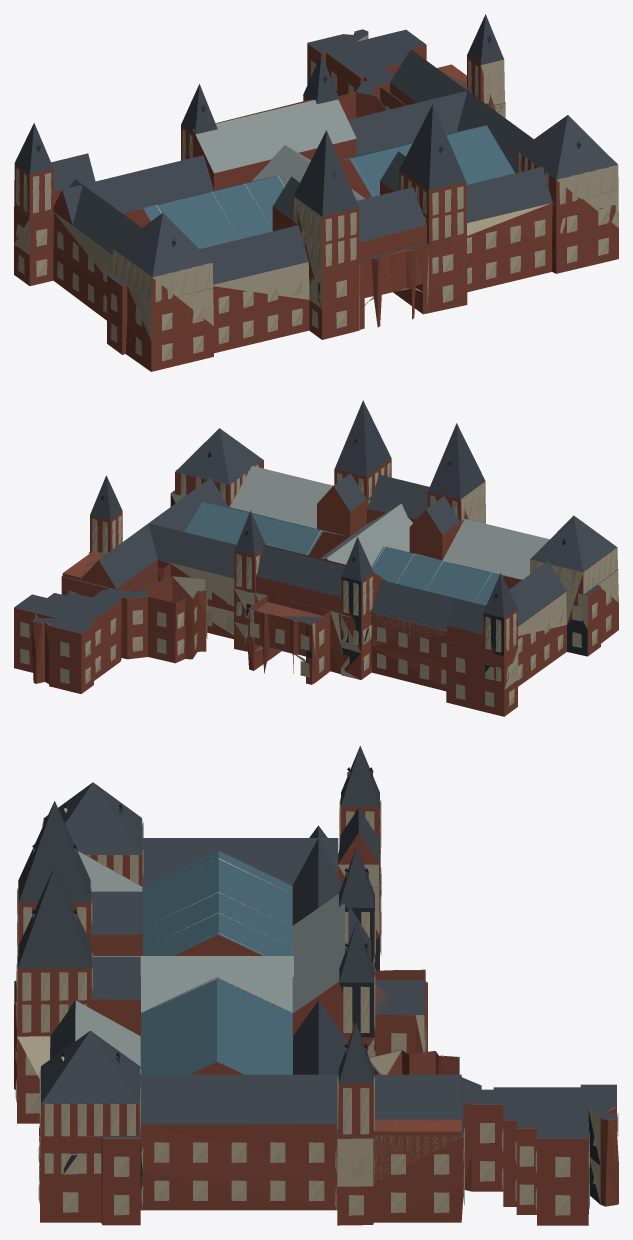
The model's file is rijksmuseum.lod2.glb.
3 views of the same model, one above another, from view 1: azimuth 30°, elevation 25°; view 2: azimuth 150°, elevation 25°; view 3: azimuth 270°, elevation 25° (orthographic). The views are drawn at different scales.
Parts seen in each view (by area): view 1: lod2; view 2: lod2; view 3: lod2.
Boxes of the visible parts, bbox=[...] form: lod2: bbox=[14, 14, 618, 371]; lod2: bbox=[14, 400, 618, 716]; lod2: bbox=[14, 746, 618, 1225].
Bounding box in the file's own units: 138 × 54 × 120.
